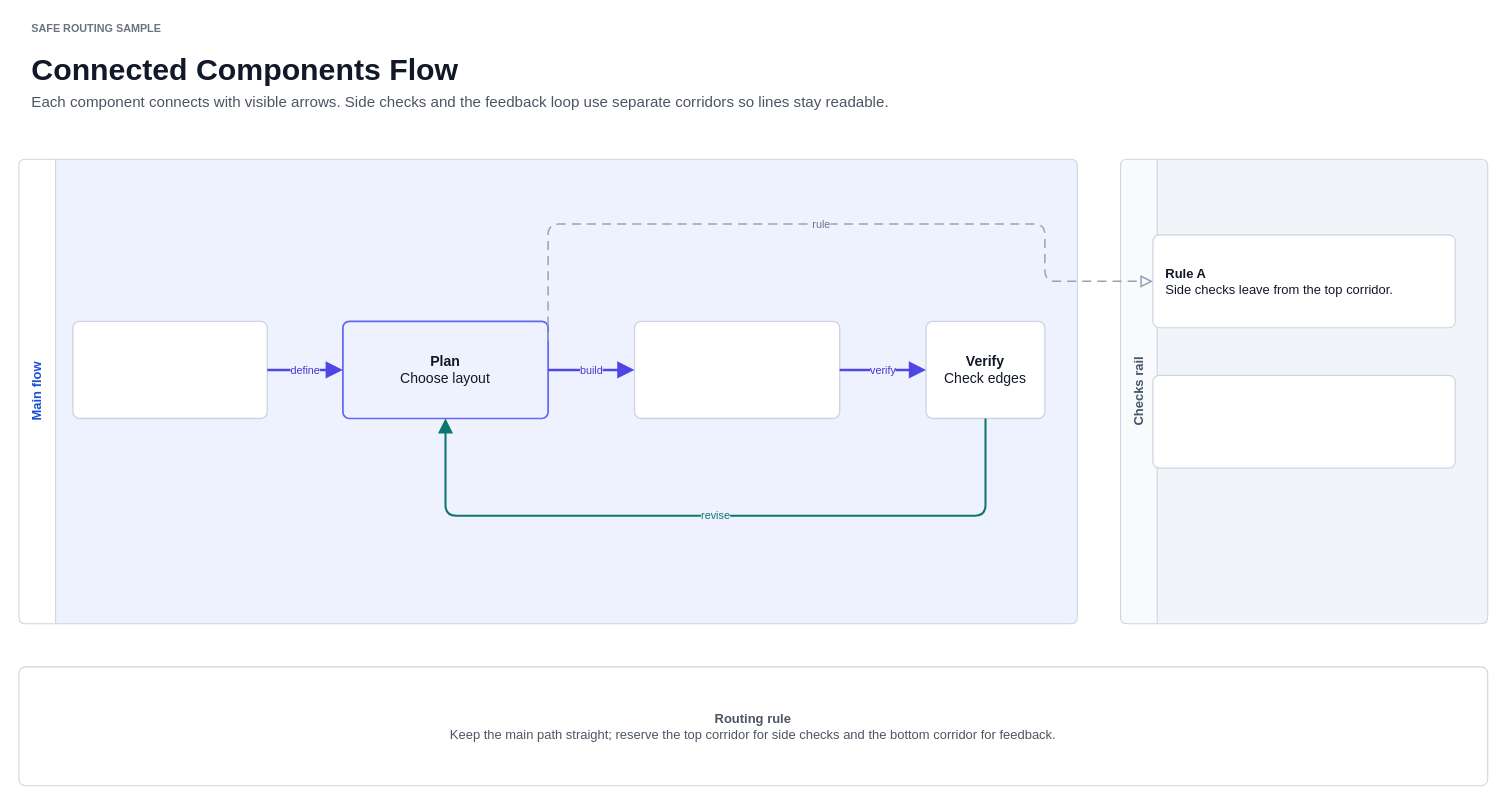
This 1507x805 diagram has some shape labels left out. The centre of each missing label's shape, as x and y in pixels:
"Assemble Build components" goes at [736,369].
"Capture Brief and constraints" goes at [170,369].
"Rule B Return loops use the bottom corridor." goes at [1303,421].
